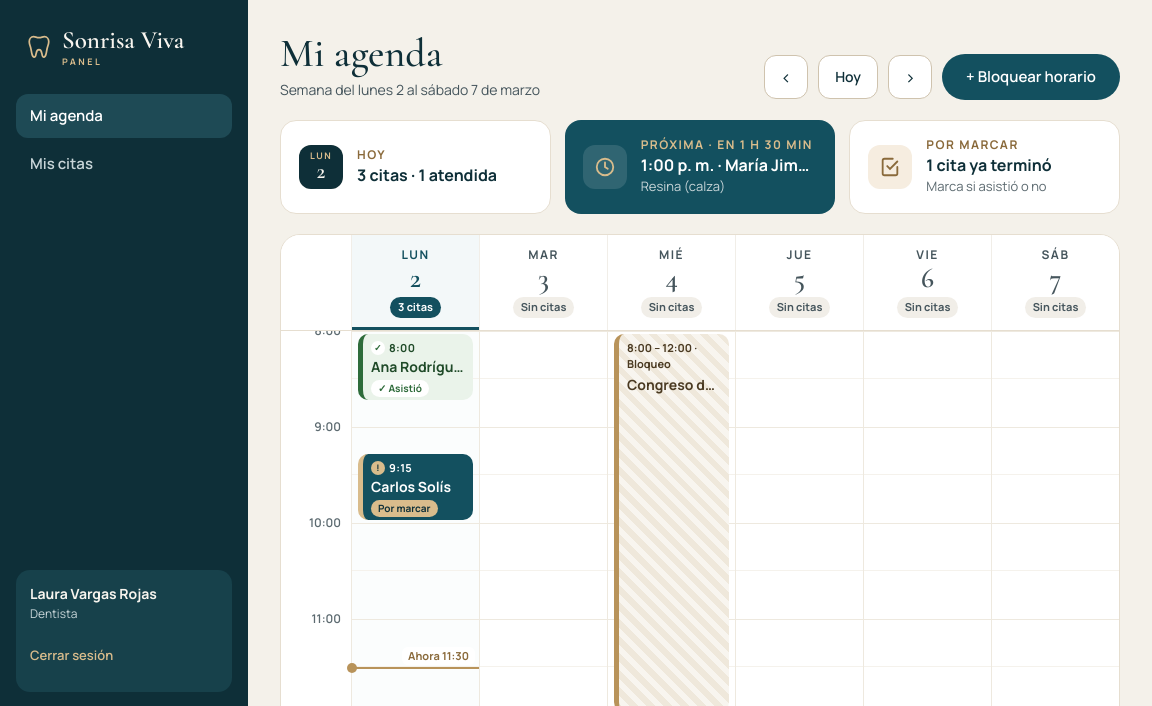
it: Agenda semanal › hasta antes que desde no envía el bloqueo
The width and height of the screenshot is (1152, 706).
Click the button "+ Bloquear horario": x=1031, y=77 [942, 54, 1120, 100]
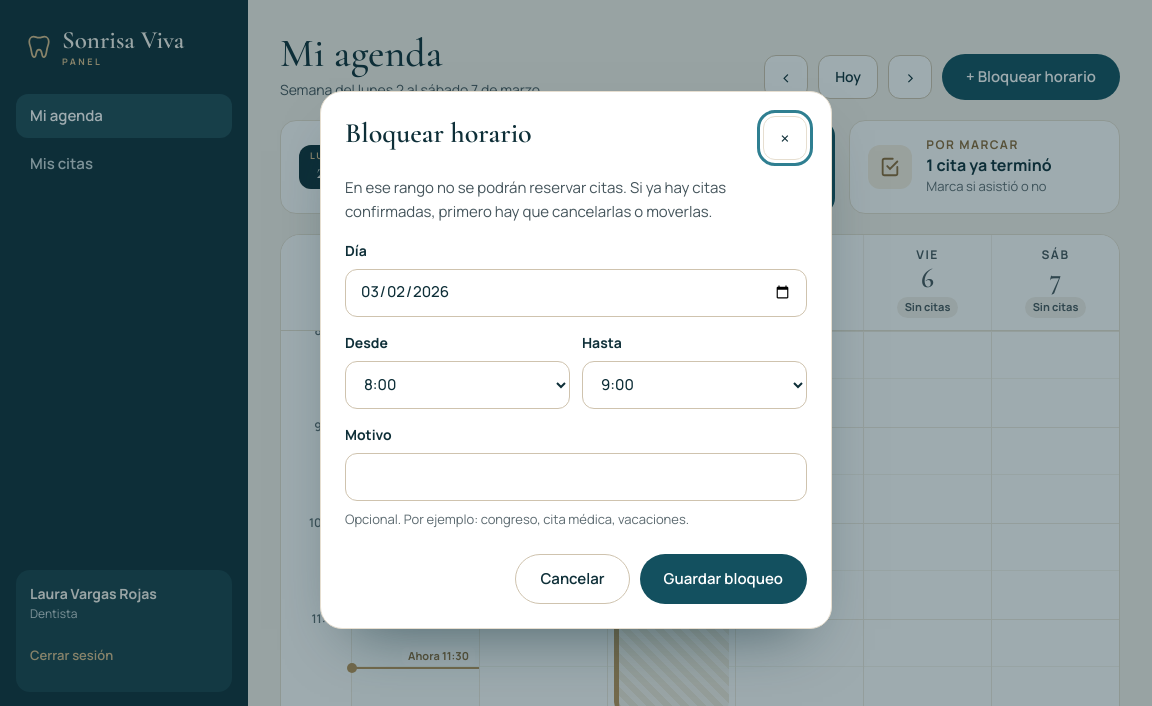
Select "15:00" in the dropdown labelled "Desde": x=458, y=385 [345, 361, 570, 409]
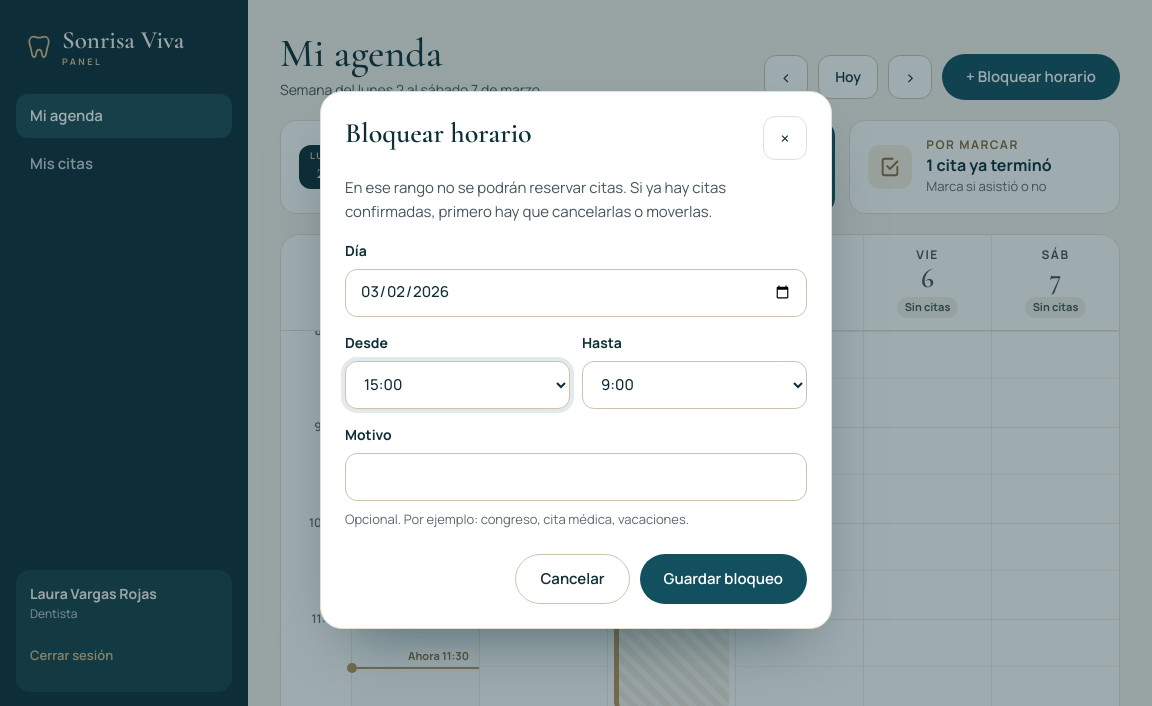
Select "14:00" in the dropdown labelled "Hasta": x=694, y=385 [582, 361, 807, 409]
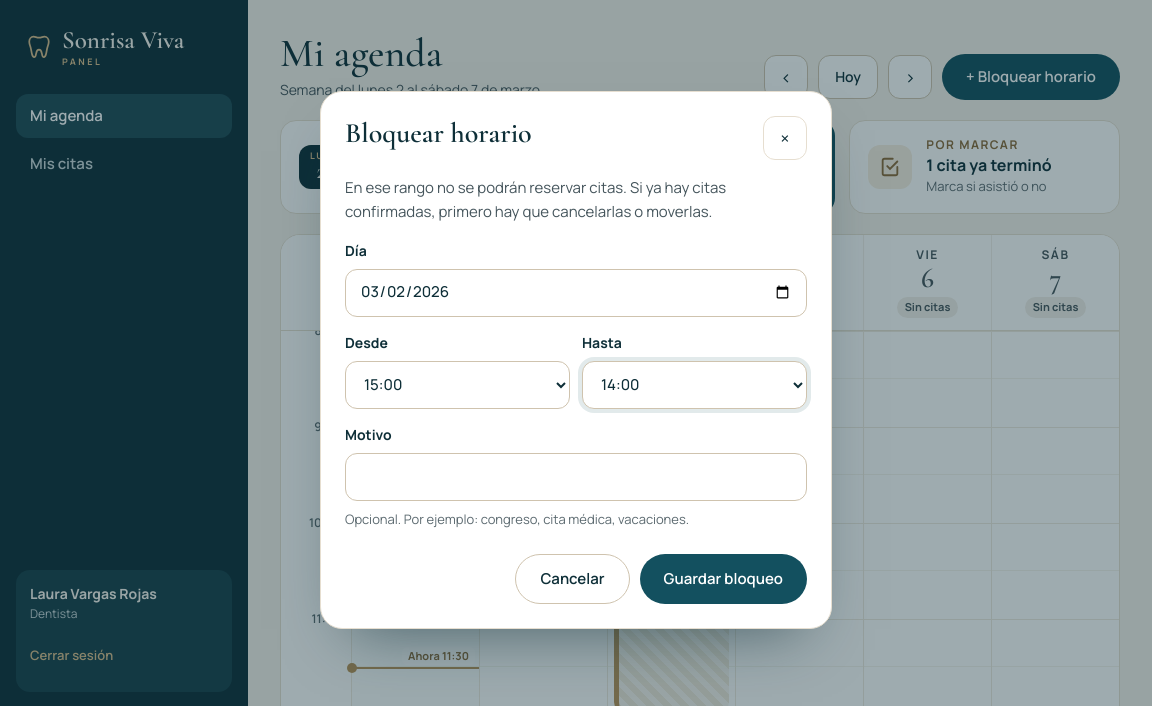
Click the button "Guardar bloqueo": x=723, y=579 [640, 554, 807, 604]
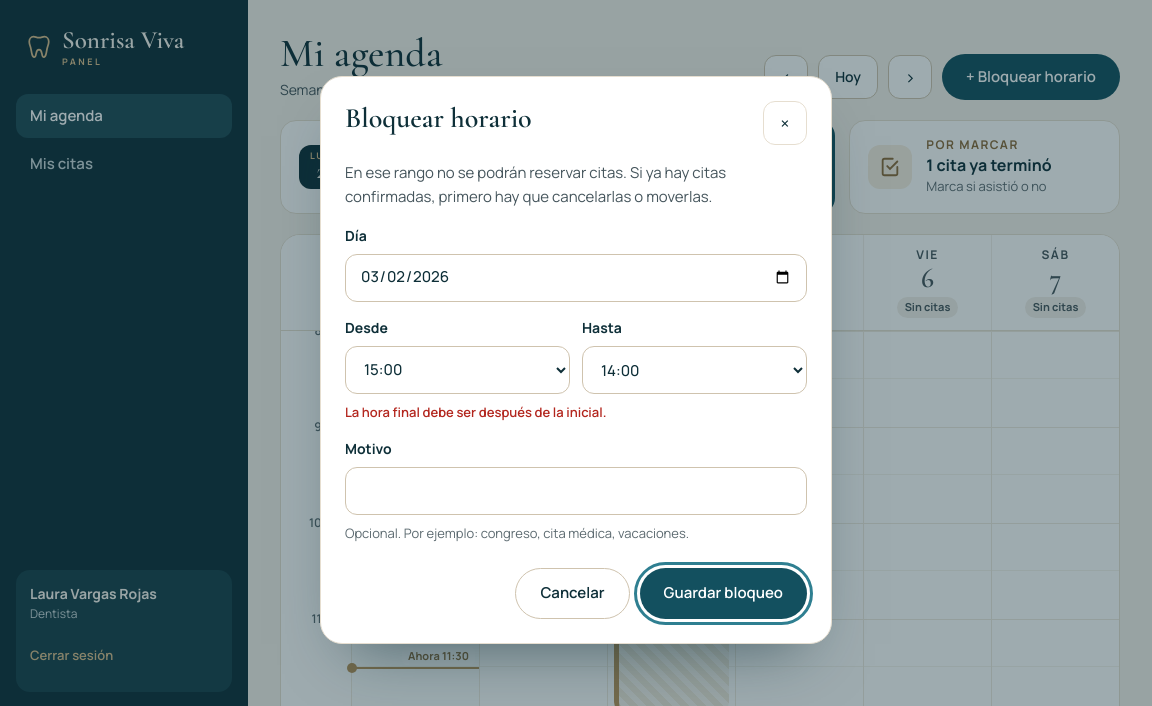
Result: the text "La hora final debe ser después de la inicial." is shown at [345, 403, 606, 421]
